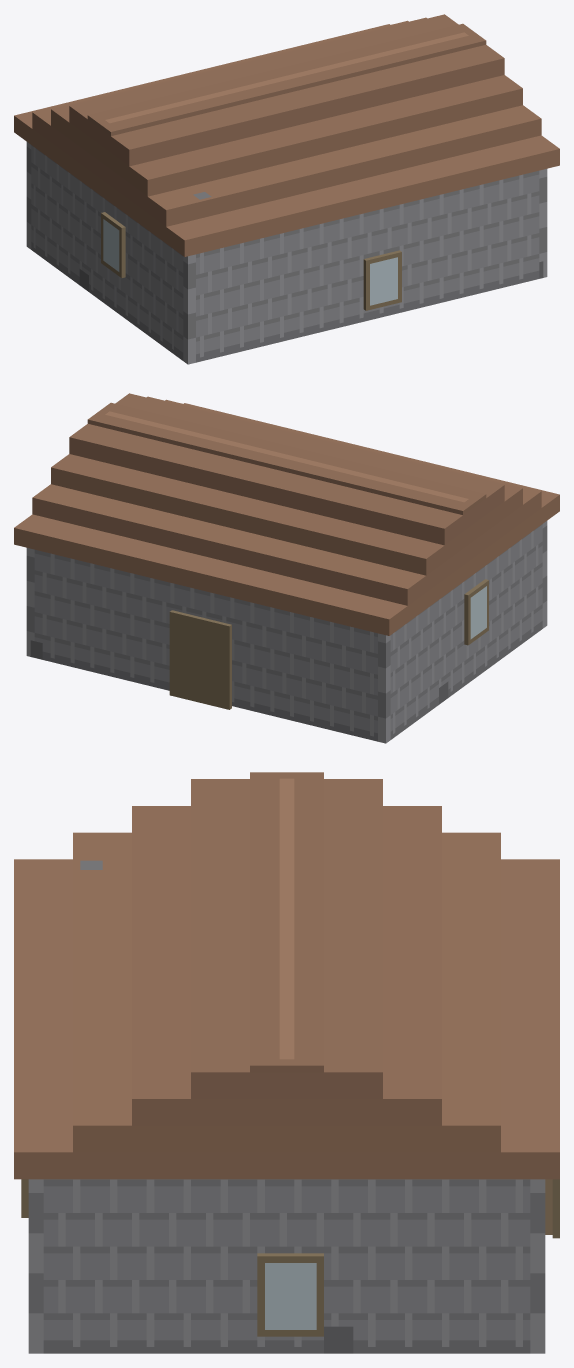
The model's file is fundicion_03.glb.
3 renders of one model, top to bottom at view 1: azimuth 30°, elevation 25°; view 2: azimuth 150°, elevation 25°; view 3: azimuth 270°, elevation 25°, orthographic. The views are drawn at different scales.
Visible parts, largest first — view 1: fundicion_03; view 2: fundicion_03; view 3: fundicion_03.
Part boxes in pixels (box(x1,y1,x2,y2)): fundicion_03: box(14, 14, 559, 364); fundicion_03: box(14, 393, 559, 743); fundicion_03: box(14, 772, 559, 1353).
Size of the model in its own units: 9.4 by 4.4 by 7.4.
